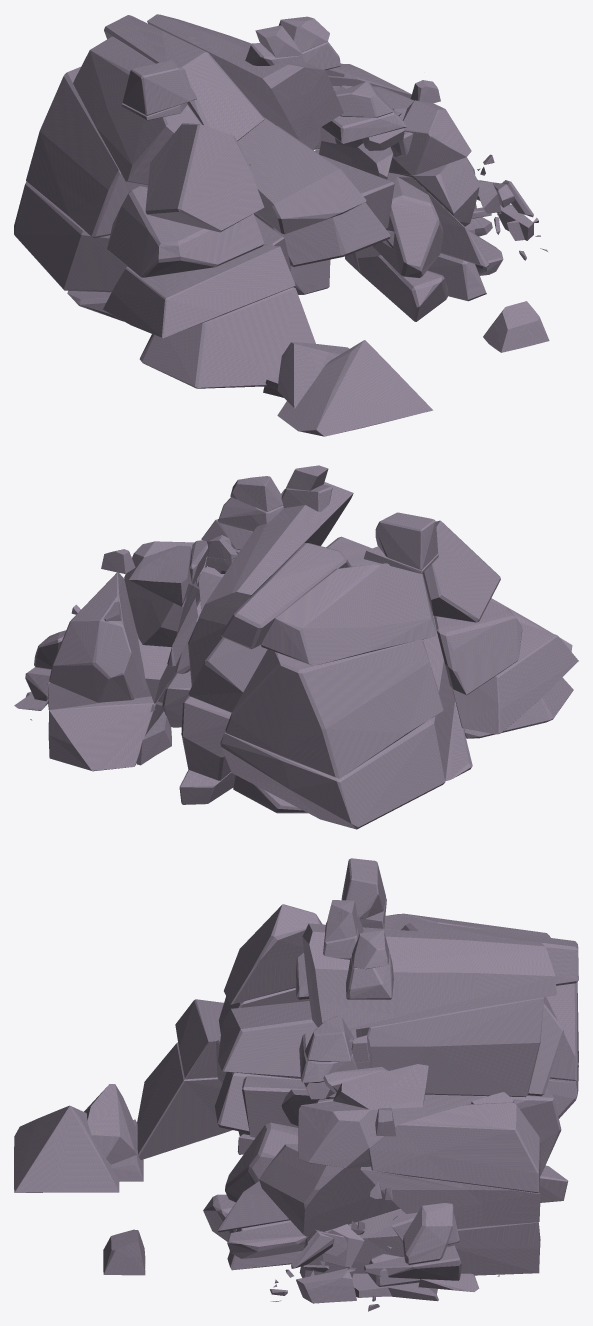
Rendered from A09_Massif_A_far.fbx.
The picture shows the model from 3 angles, top to bottom: view 1: azimuth 30°, elevation 25°; view 2: azimuth 150°, elevation 25°; view 3: azimuth 270°, elevation 25°; orthographic projection. The views are drawn at different scales.
Visible parts, largest first — view 1: A09A_0_0, A09A_0_4, A09A_0_9, A09A_0_12, A09A_0_10, A09A_0_16, A09A_0_buttress1_0, A09A_0_14, A09A_0_8, A09A_0_5, A09A_0_15, A09A_1_5 (+27 smaller); view 2: A09A_0_9, A09A_0_5, A09A_0_14, A09A_1_15, A09A_0_16, A09A_1_4, A09A_0_4, A09A_0_8, A09A_0_15, A09A_0_12, A09A_0_10, A09A_1_14 (+24 smaller); view 3: A09A_0_16, A09A_0_11, A09A_1_15, A09A_0_10, A09A_0_buttress1_0, A09A_1_9, A09A_0_0, A09A_1_4, A09A_1_10, A09A_0_12, A09A_1_14, A09A_0_6 (+35 smaller).
Boxes of the visible parts, x1,y1,x2,y2 form: A09A_0_0: (139,287,315,388); A09A_0_4: (103,246,295,338); A09A_0_9: (26,67,147,238); A09A_0_12: (145,123,264,232); A09A_0_10: (237,116,366,234); A09A_0_16: (147,14,343,139); A09A_0_buttress1_0: (277,340,433,436); A09A_0_14: (73,36,202,184); A09A_0_8: (107,186,264,277); A09A_0_5: (14,181,290,292); A09A_0_15: (104,15,264,141); A09A_1_5: (372,176,443,277); A09A_0_9: (225,639,443,778); A09A_0_5: (220,612,454,829); A09A_0_14: (261,563,436,665); A09A_1_15: (49,572,146,702); A09A_0_16: (198,482,353,624); A09A_1_4: (48,696,163,771); A09A_0_4: (452,622,578,734); A09A_0_8: (434,601,522,695); A09A_0_15: (220,543,351,649); A09A_0_12: (423,520,500,622); A09A_0_10: (188,536,380,712); A09A_1_14: (124,541,199,646); A09A_0_16: (302,923,556,1030); A09A_0_11: (356,997,543,1097); A09A_1_15: (369,1102,540,1193); A09A_0_10: (218,1001,564,1096); A09A_0_buttress1_0: (14,1105,119,1192); A09A_1_9: (259,1144,400,1236); A09A_0_0: (137,1042,232,1159); A09A_1_4: (299,1209,540,1277); A09A_1_10: (360,1166,540,1229); A09A_0_12: (224,904,322,1004); A09A_1_14: (298,1101,427,1167); A09A_0_6: (215,1072,561,1175).
Size of the model in its own units: 585 by 338 by 607.
